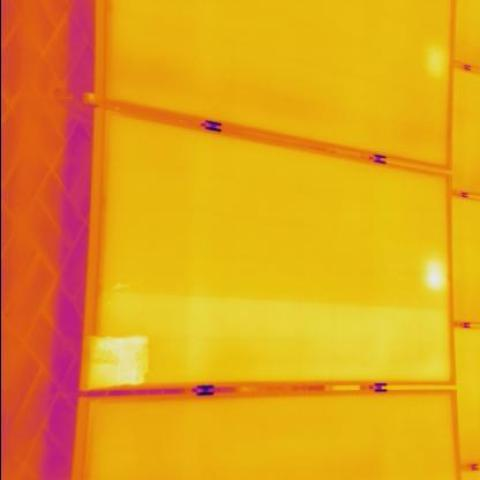fault: (86, 338, 146, 382), (427, 44, 451, 79), (428, 258, 447, 292)
